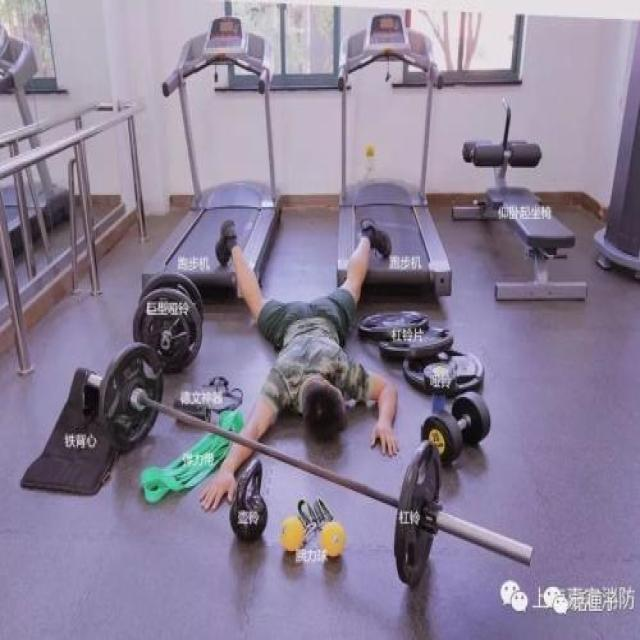down: (193, 207, 404, 513)
